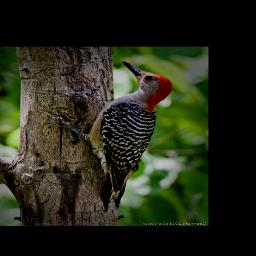Woodpecker: (41, 58, 181, 212)
